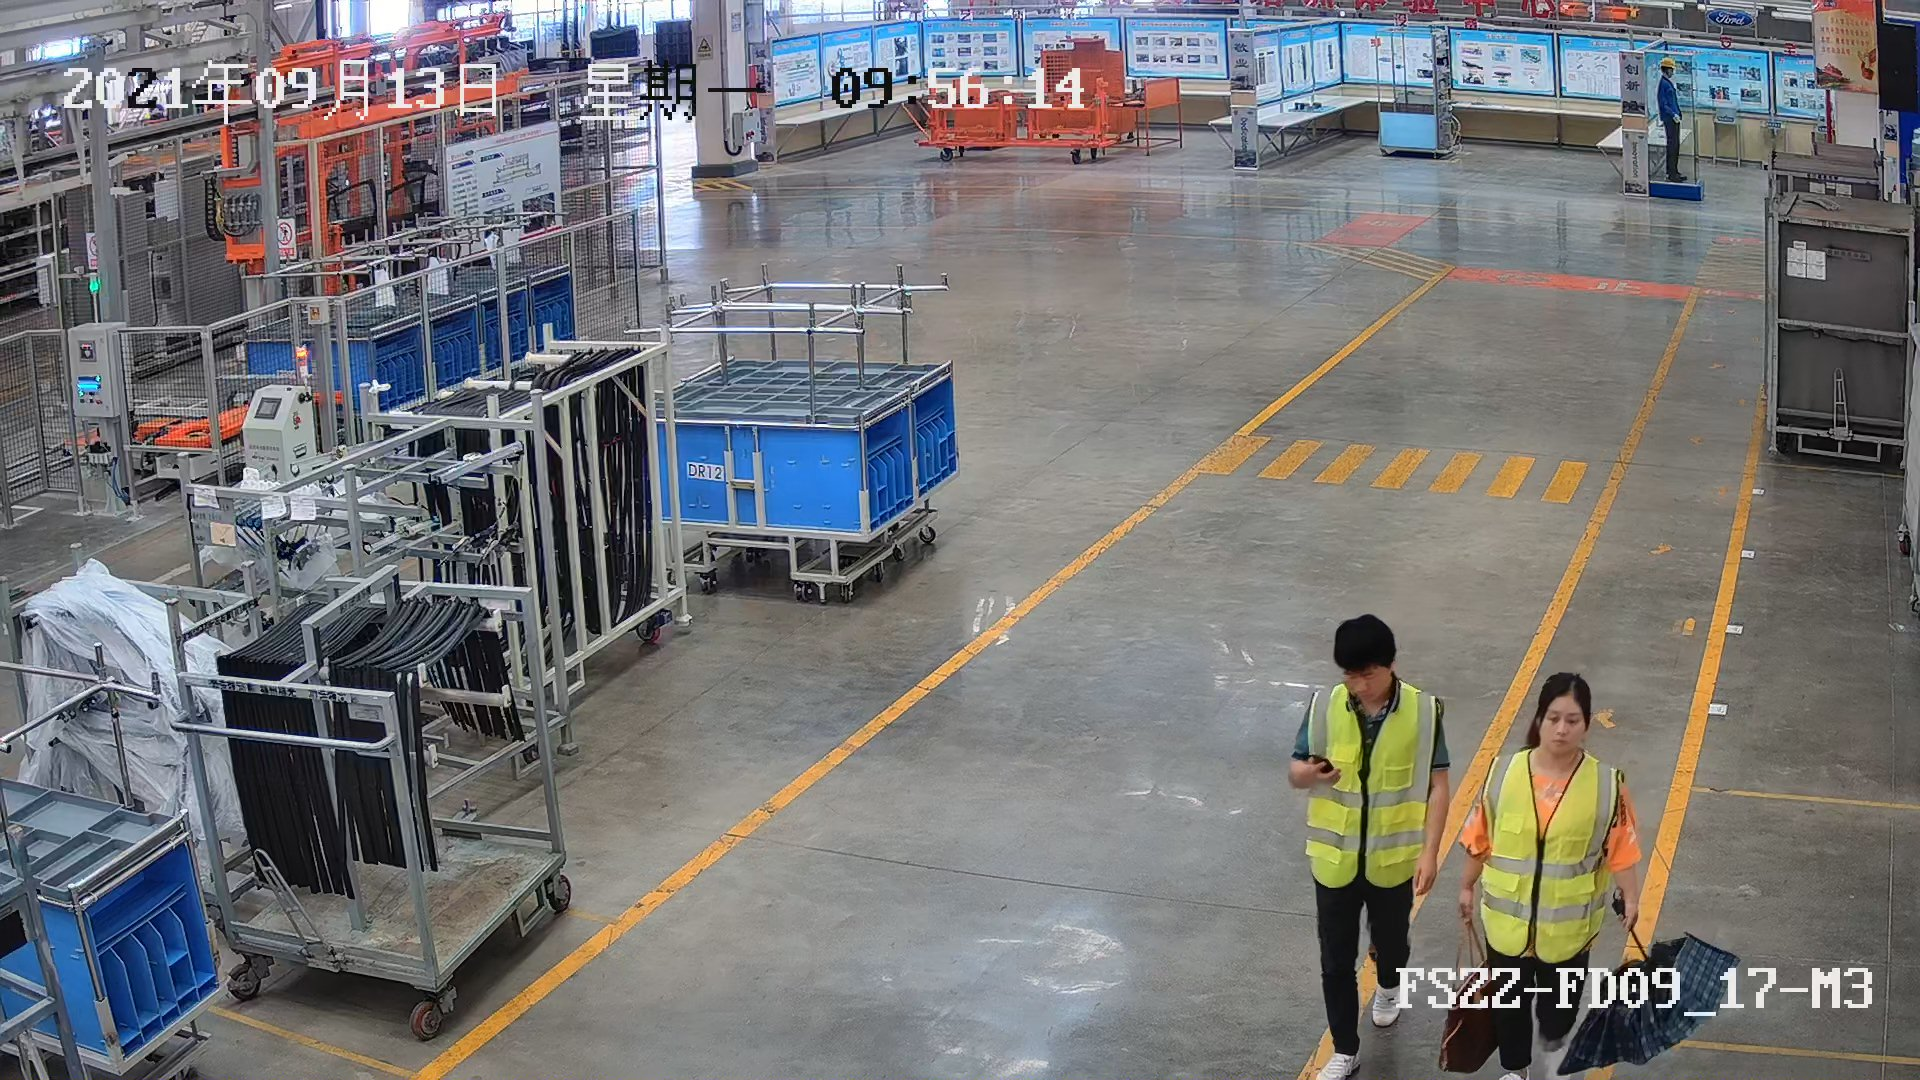hand: (1414, 852, 1437, 898), (1619, 893, 1644, 932), (1452, 882, 1474, 923)
person: (1444, 655, 1653, 1080), (1281, 608, 1450, 1080)
phone: (1307, 751, 1337, 773)
